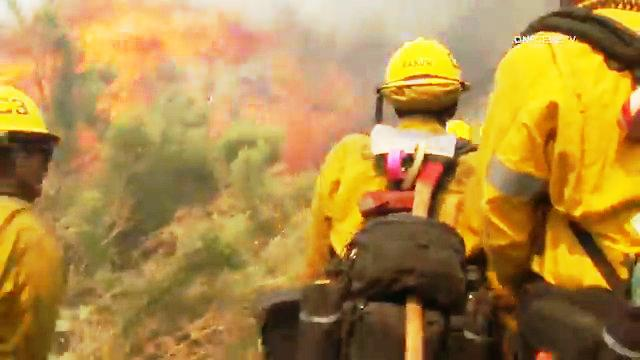fire: (73, 0, 213, 103)
